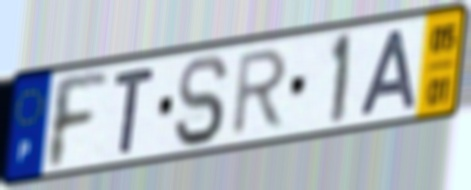1: (326, 29, 353, 130)
A: (355, 27, 418, 120)
F: (47, 69, 111, 173)
R: (227, 44, 292, 141)
S: (171, 51, 232, 150)
T: (111, 64, 158, 157)
